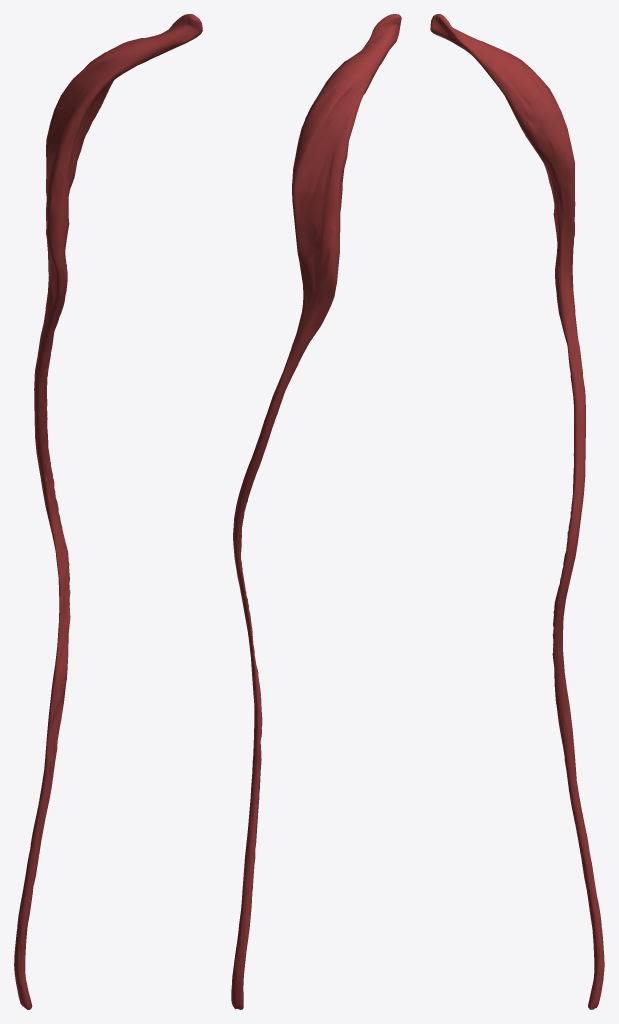
File: plantaris-muscle-r.glb
3 renders of one model, left to right at view 1: azimuth 90°, elevation 25°; view 2: azimuth 150°, elevation 25°; view 3: azimuth 270°, elevation 25°, orthographic. The views are drawn at different scales.
Visible parts, largest first — view 1: Plantaris muscle.r; view 2: Plantaris muscle.r; view 3: Plantaris muscle.r.
Boxes of the visible parts, bbox=[...] form: Plantaris muscle.r: bbox=[14, 14, 202, 1009]; Plantaris muscle.r: bbox=[231, 14, 401, 1009]; Plantaris muscle.r: bbox=[430, 14, 604, 1009].
Bounding box in the file's own units: 0.0549 × 0.4823 × 0.0797.
